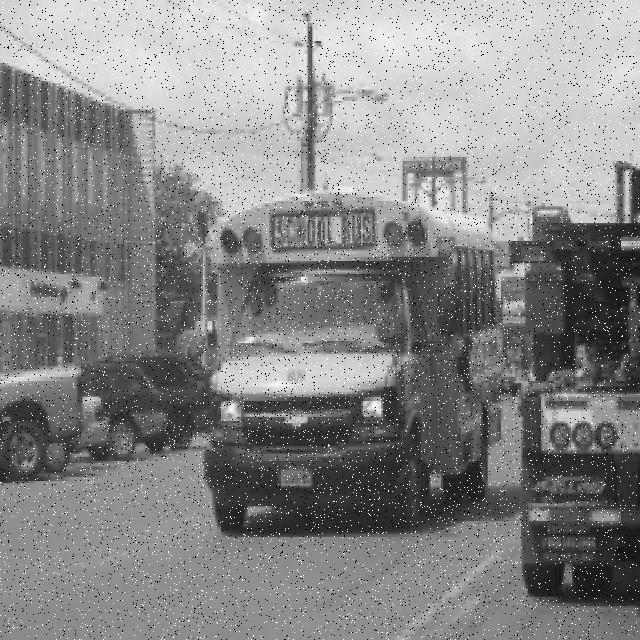Bus- Small: (203, 189, 505, 533)
